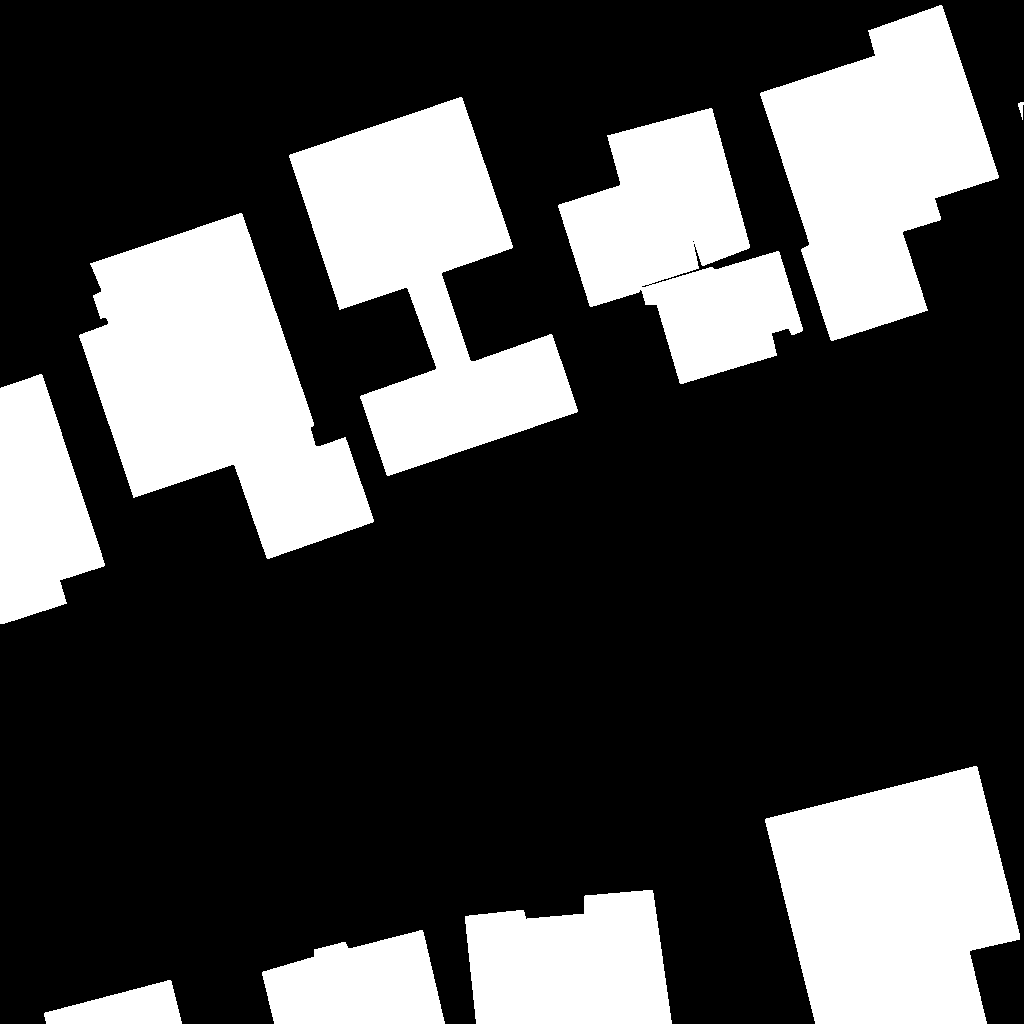building: (289, 97, 579, 477), (79, 213, 375, 560), (760, 5, 1000, 342), (765, 766, 1021, 1024), (558, 108, 751, 308), (465, 890, 673, 1024), (0, 374, 106, 625), (641, 251, 804, 385), (262, 930, 446, 1024), (44, 980, 183, 1024), (1018, 102, 1024, 122)
